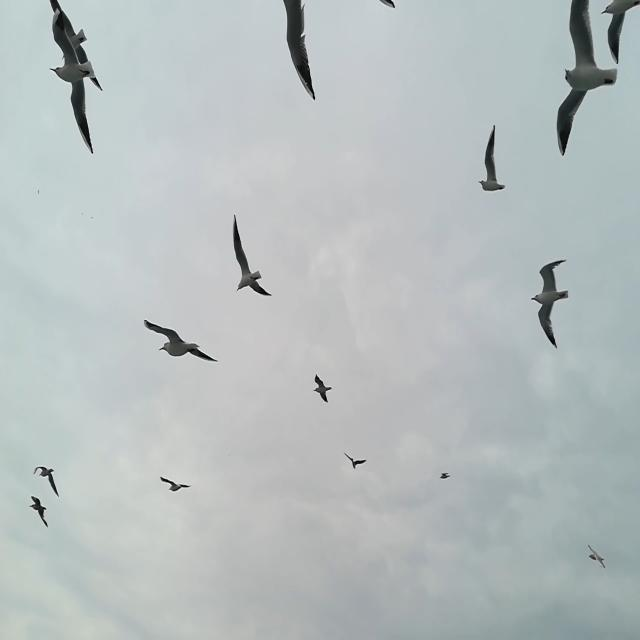bird: (556, 0, 618, 157), (50, 6, 96, 156), (49, 0, 103, 92), (282, 0, 316, 102), (531, 260, 569, 350), (232, 214, 273, 297), (144, 319, 219, 363), (600, 0, 640, 65), (478, 124, 507, 193), (32, 466, 60, 496), (311, 374, 332, 403), (29, 496, 48, 528), (587, 543, 606, 570), (160, 475, 190, 492), (342, 452, 367, 469), (379, 0, 395, 8), (440, 471, 450, 480), (37, 189, 40, 195), (91, 217, 93, 220), (81, 212, 83, 215)
